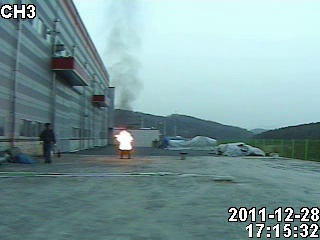fire: (114, 126, 134, 152)
